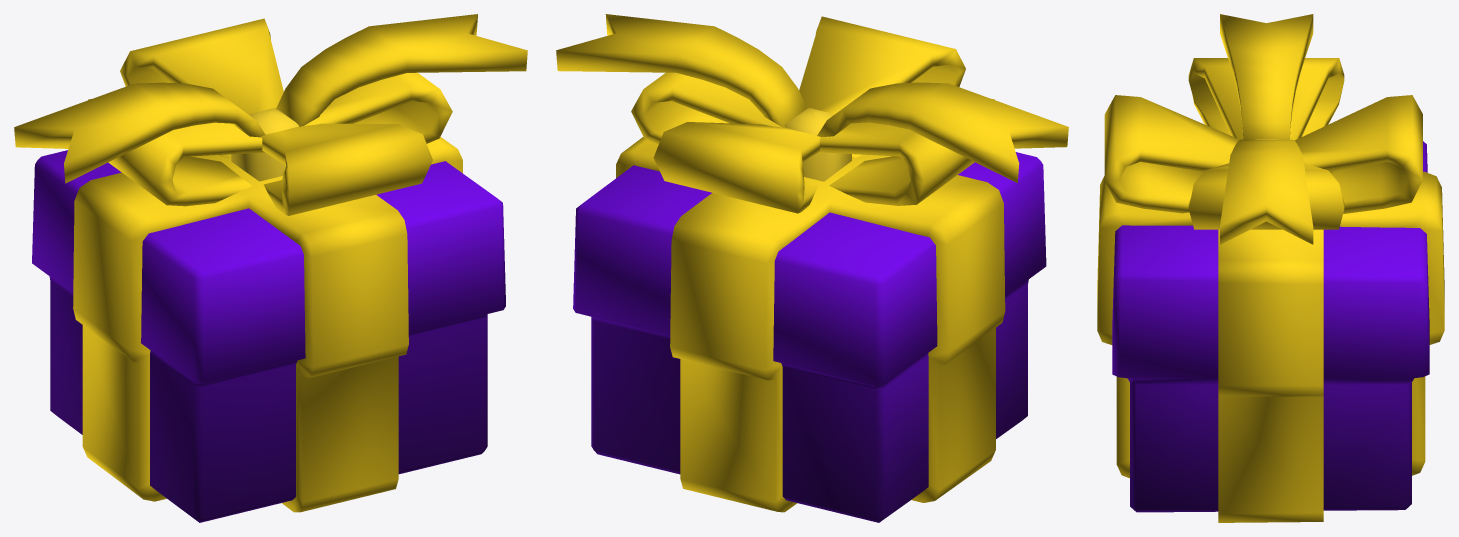
File: Collectable_Gift_Box_01.fbx
3 renders of one model, left to right at view 1: azimuth 30°, elevation 25°; view 2: azimuth 150°, elevation 25°; view 3: azimuth 270°, elevation 25°, orthographic. The views are drawn at different scales.
Parts seen in each view (by area): view 1: Collectable_Gift_Box_01; view 2: Collectable_Gift_Box_01; view 3: Collectable_Gift_Box_01.
Part boxes in pixels (box(x1,y1,x2,y2)): Collectable_Gift_Box_01: box(14, 14, 527, 522); Collectable_Gift_Box_01: box(556, 14, 1068, 522); Collectable_Gift_Box_01: box(1097, 14, 1444, 522).
Bounding box in the file's own units: 104 × 81.1 × 71.65.
